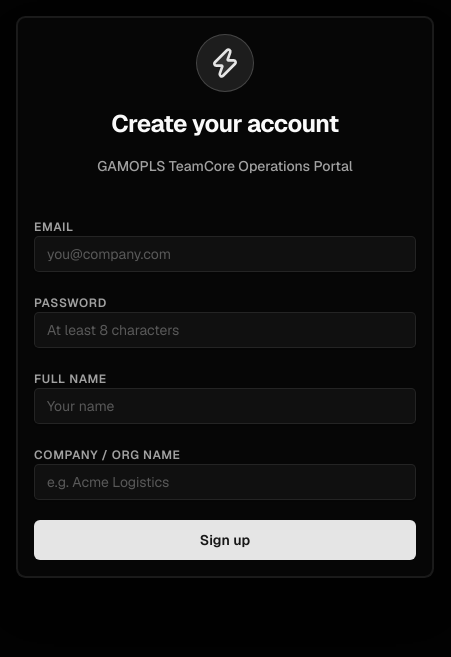
it: SignupPage › shows the server's error message on failure
Type "owner@example.com" into the field named "email" at (225, 254), box [34, 236, 416, 272]
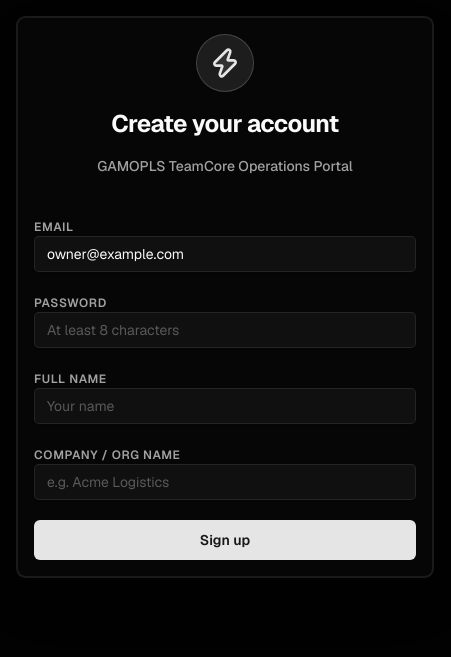
Type "password123" into the password field named "password" at (225, 330), box [34, 312, 416, 348]
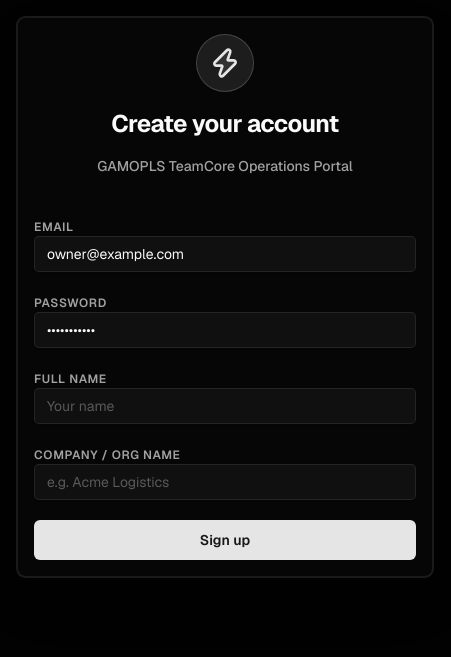
Type "Owner" into the field named "full name" at (225, 406), box [34, 388, 416, 424]
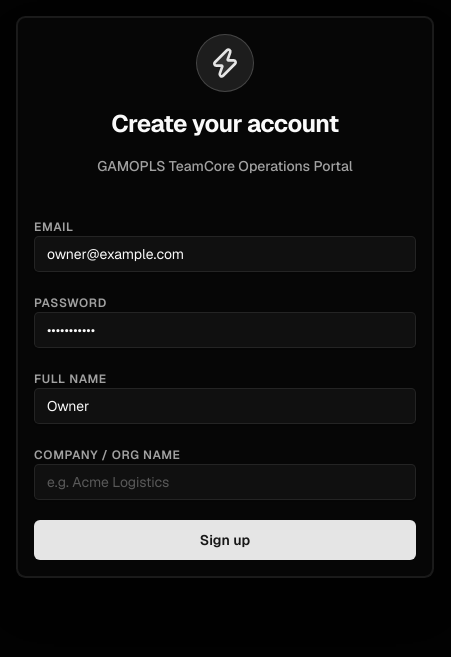
Type "Acme" into the field named "company" at (225, 482), box [34, 464, 416, 500]
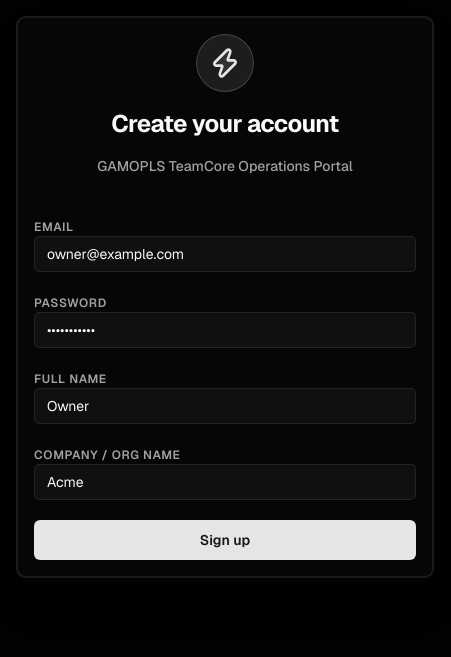
Click the button "Sign up" at (225, 540), box [34, 520, 416, 560]
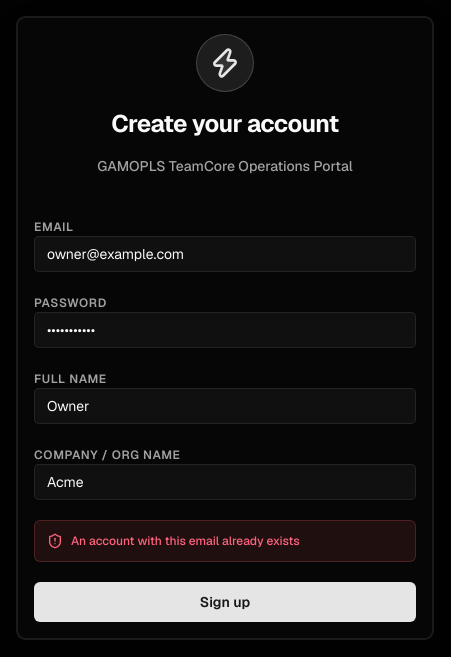
Expected: the text "An account with this email already exists" is shown, [71, 533, 300, 549]
